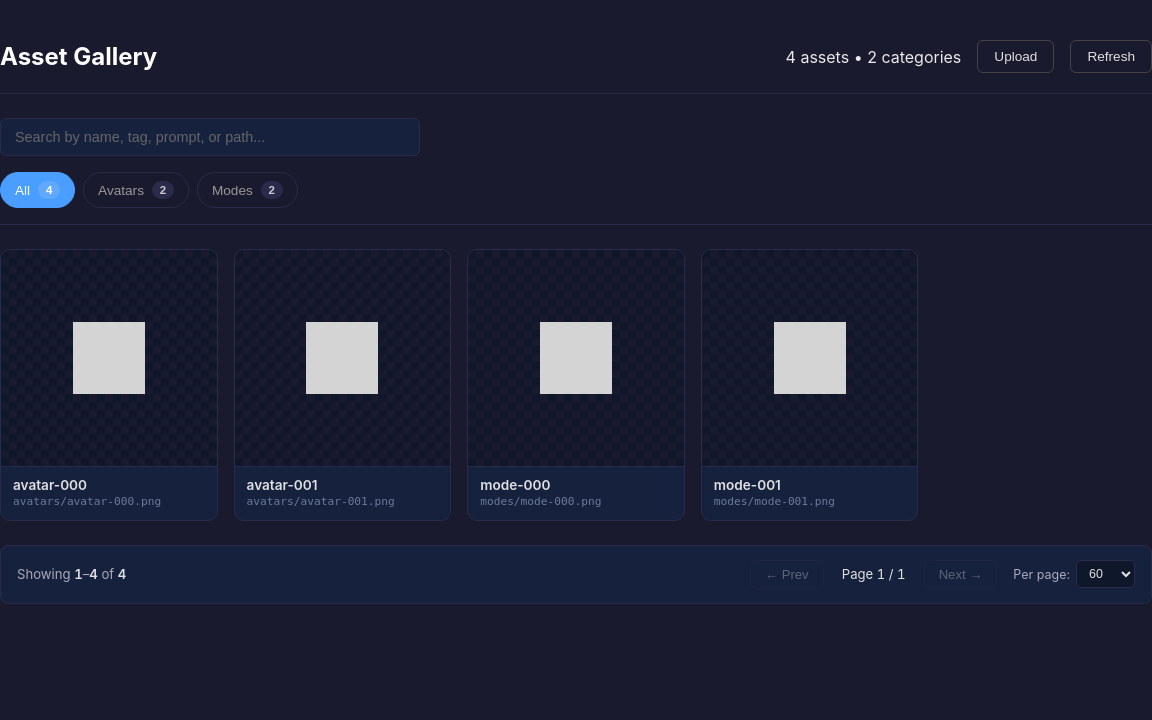
AdminAssetGalleryPage — detail modal › opens the detail modal when a card is clicked
Expected: the element with test id "admin-gallery-grid" is shown, [0,249,918,521]
Click the element with test id "^admin-gallery-card-": (109, 385) [0,249,218,521]
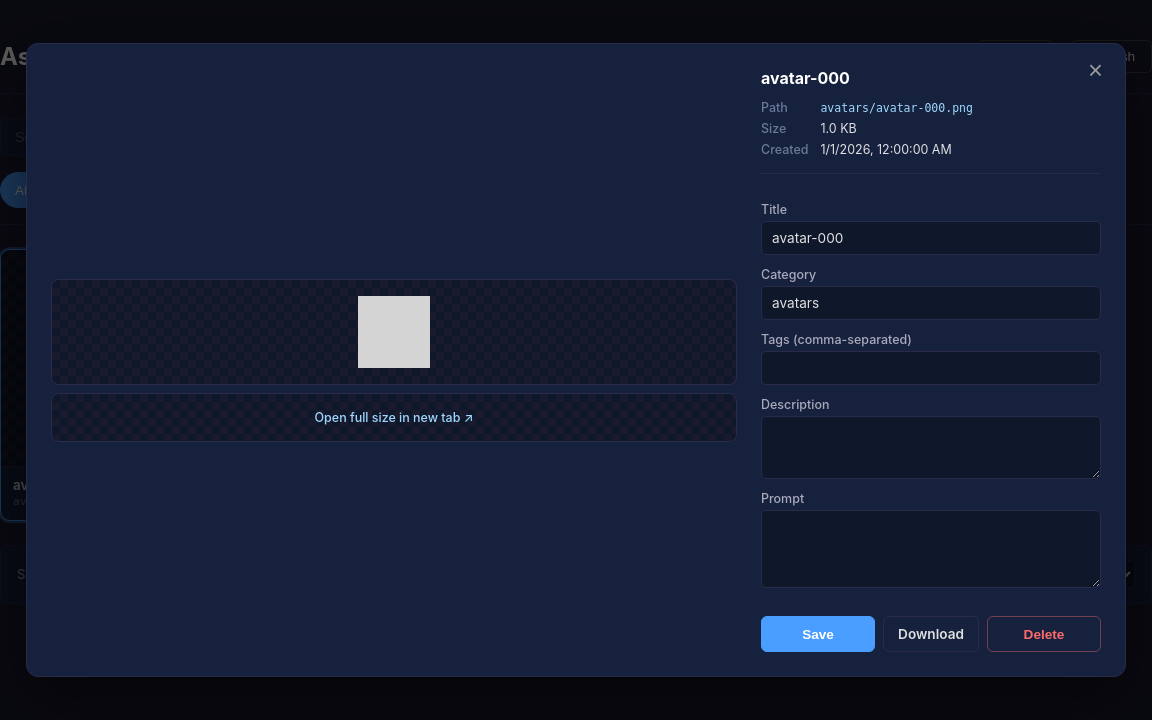
Result: the element with test id "admin-gallery-detail-modal" that starts with "Open full size in new tab ↗" is shown
